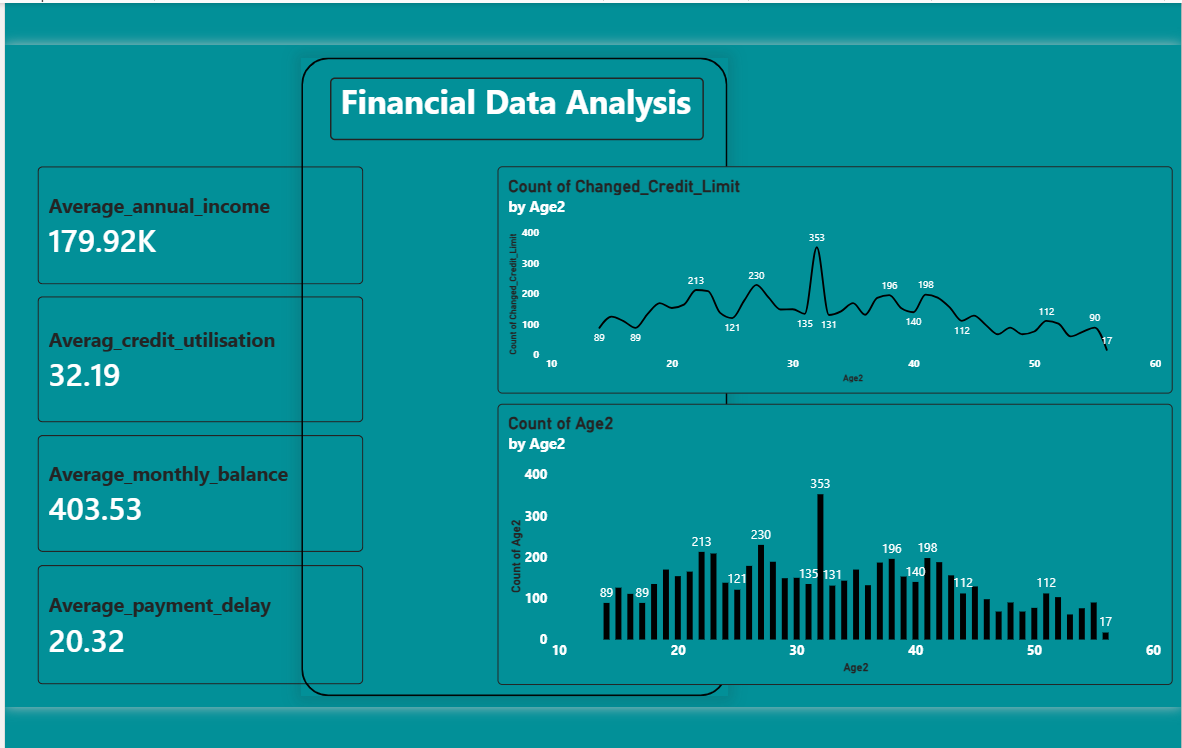

This screenshot's page, from the dashboard's own definition file:
{"tool":"powerbi","page":{"name":"Page 1","canvas":[1920,1080],"ordinal":0},"visuals":[{"type":"textbox","box":[530.6,53.1,610.2,102],"z":0},{"type":"cardVisual","fields":{"Data":["Cleaned data.Average_annual_income"]},"box":[53.1,198,532.7,193.9],"z":1000},{"type":"cardVisual","fields":{"Data":["Cleaned data.Averag_credit_utilisation"]},"box":[53.1,410.2,532.7,206.1],"z":2000},{"type":"cardVisual","fields":{"Data":["Cleaned data.Average_monthly_balance"]},"box":[53.1,636.7,532.7,191.8],"z":3000},{"type":"cardVisual","fields":{"Data":["Cleaned data.Average_payment_delay"]},"box":[53.1,849,532.7,195.9],"z":4000},{"type":"shape","box":[483.7,20.4,695.9,1042.9],"z":5000},{"type":"lineChart","fields":{"Category":["Cleaned data.Age2"],"Y":["CountNonNull(Cleaned data.Changed_Credit_Limit)"]},"box":[804.1,198,1102,371.4],"z":5001},{"type":"clusteredColumnChart","fields":{"Category":["Cleaned data.Age2"],"Y":["CountNonNull(Cleaned data.Age2)"]},"box":[804.1,585.7,1102,459.2],"z":5002}]}

Visuals, with their boxes on the page's 1920x1080 design canvas (x1, y1, x2, y2). These are canvas units, not pixel positions in the 1182x748 screenshot, which may show the page scaled, cropped or inside an application window:
textbox: 531/53/1141/155
cardVisual - Cleaned data.Average_annual_income: 53/198/586/392
cardVisual - Cleaned data.Averag_credit_utilisation: 53/410/586/616
cardVisual - Cleaned data.Average_monthly_balance: 53/637/586/828
cardVisual - Cleaned data.Average_payment_delay: 53/849/586/1045
shape: 484/20/1180/1063
lineChart - Cleaned data.Age2 x CountNonNull(Cleaned data.Changed_Credit_Limit): 804/198/1906/569
clusteredColumnChart - Cleaned data.Age2 x CountNonNull(Cleaned data.Age2): 804/586/1906/1045
